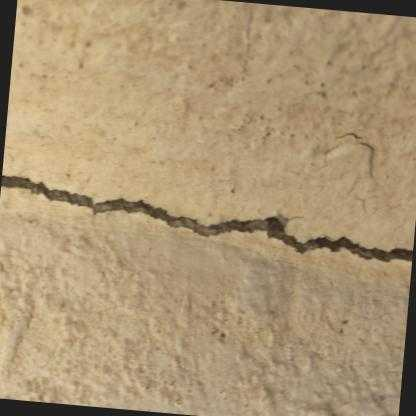crack: (1, 175, 413, 262)
